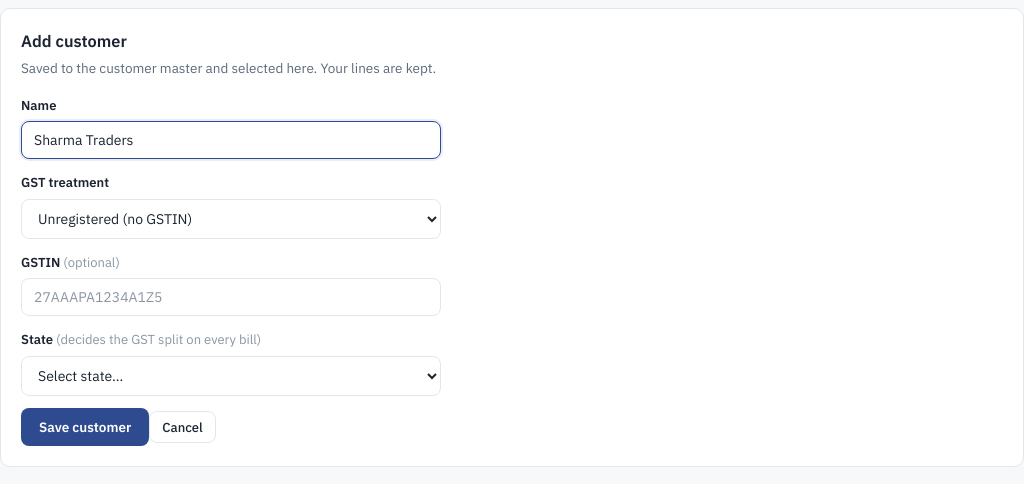
<QuickAddCustomer> › offers to reactivate a deactivated company
Step 1. Select "09 — Uttar Pradesh" in the dropdown labelled "State (decides the GST split on every bill)" → (231,376), box x1=21 y1=356 x2=441 y2=396
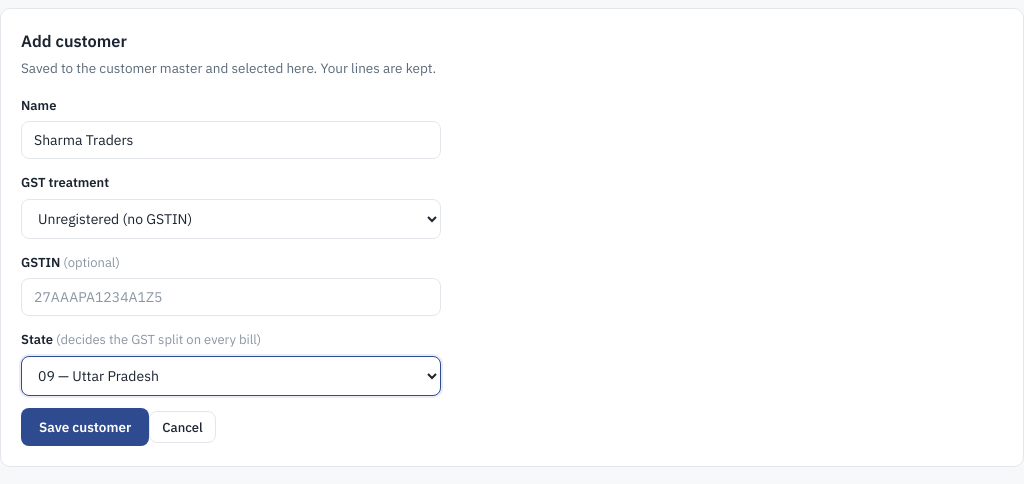
Step 2. Click the button "Save customer" → (85,427), box x1=21 y1=408 x2=149 y2=446
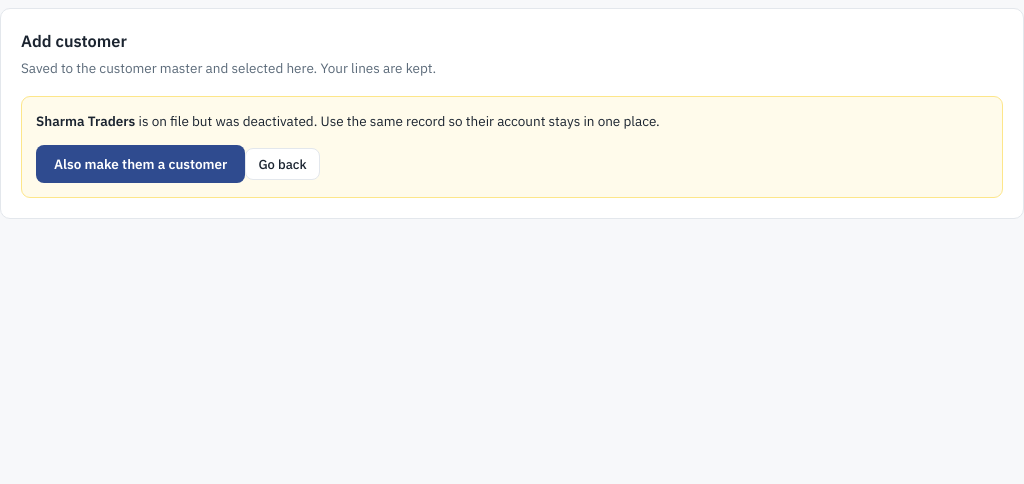
Now the text "deactivated" is shown, box x1=138 y1=112 x2=314 y2=130
